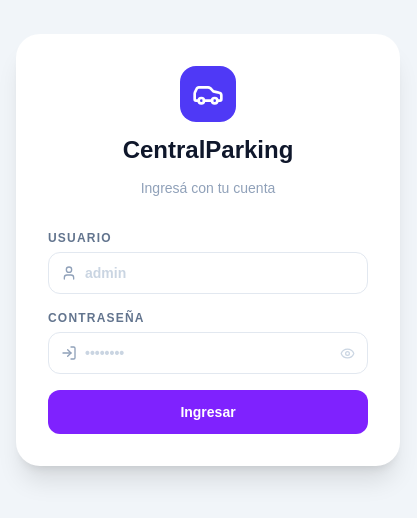
Test case: application flow characterization › keeps the invalid-login error behavior
This screenshot has width=417, height=518.
In the field labelled "Usuario": (220, 273) [85,263,355,283], type "synthetic-user"
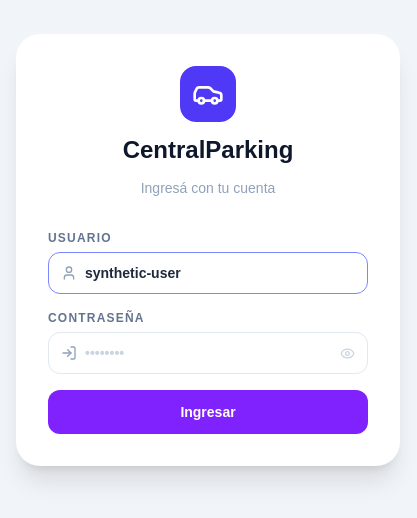
In the password field labelled "Contraseña": (208, 353) [85,343,332,363], type "synthetic-password"
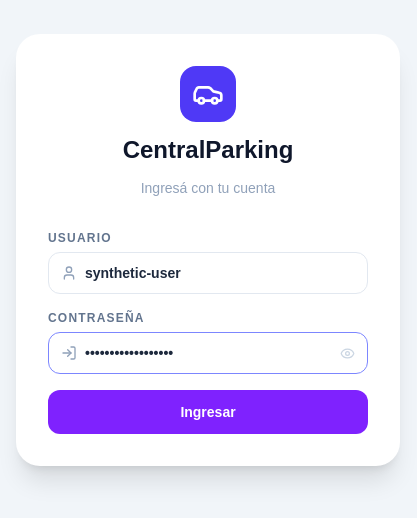
Click the button "Ingresar": (208, 412) [48,390,368,434]
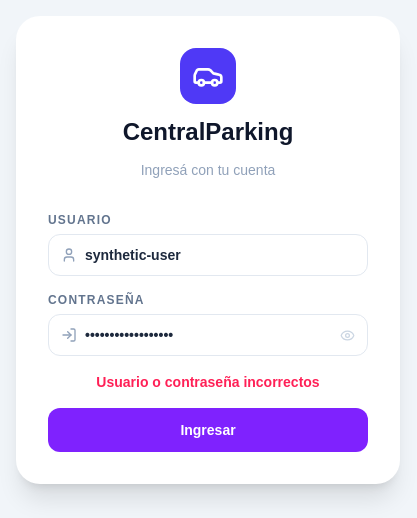
Now the text "Usuario o contraseña incorrectos" is shown, box [96,374,320,390]
